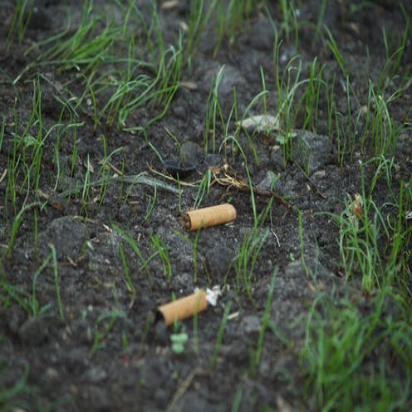cigarette: (156, 284, 228, 331), (183, 205, 242, 230)
